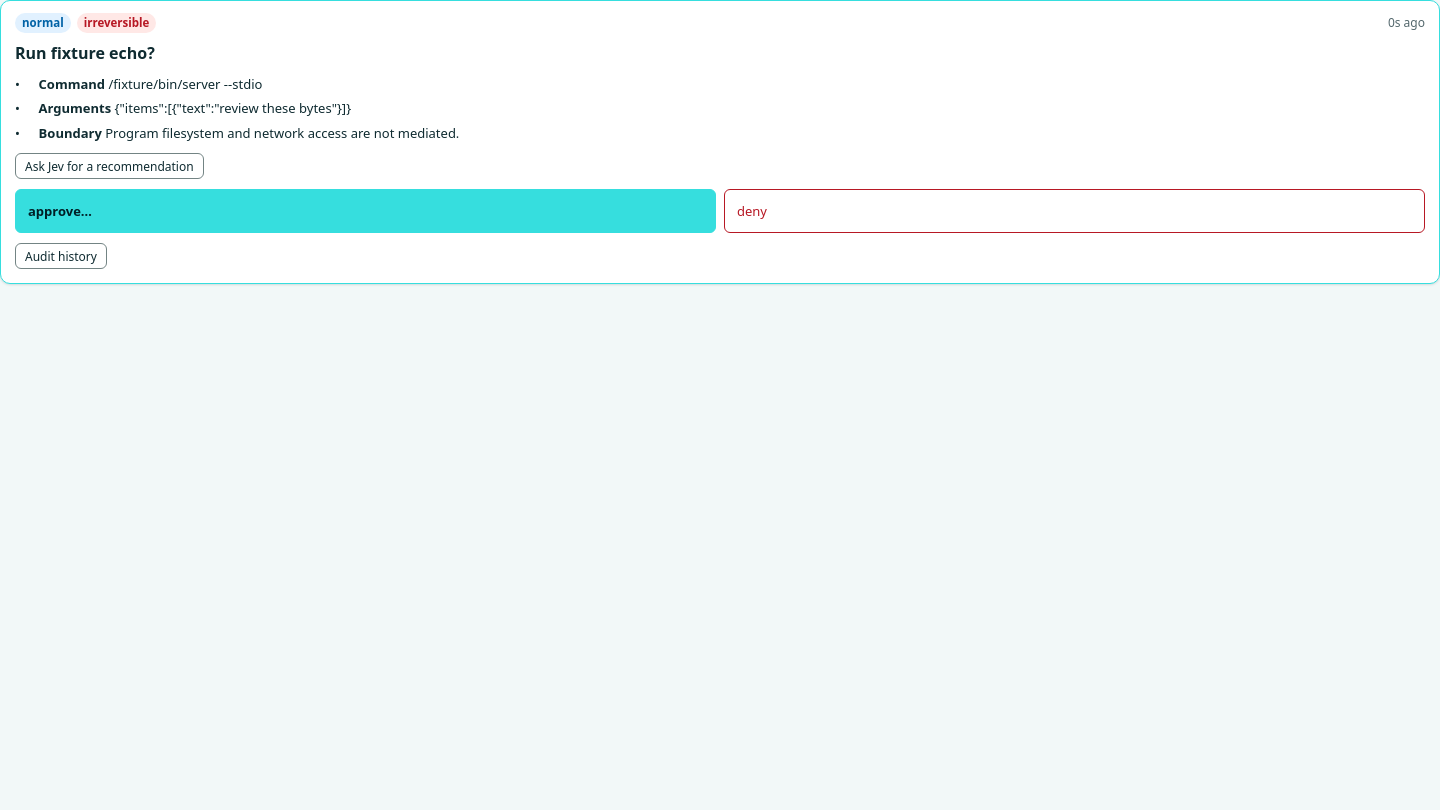
Scenario: exact plugin Decision confirmation › reports uncertain without implying completion or retrying
The image size is (1440, 810).
Click the button "approve…".
click(54, 211)  # box [15, 189, 716, 233]
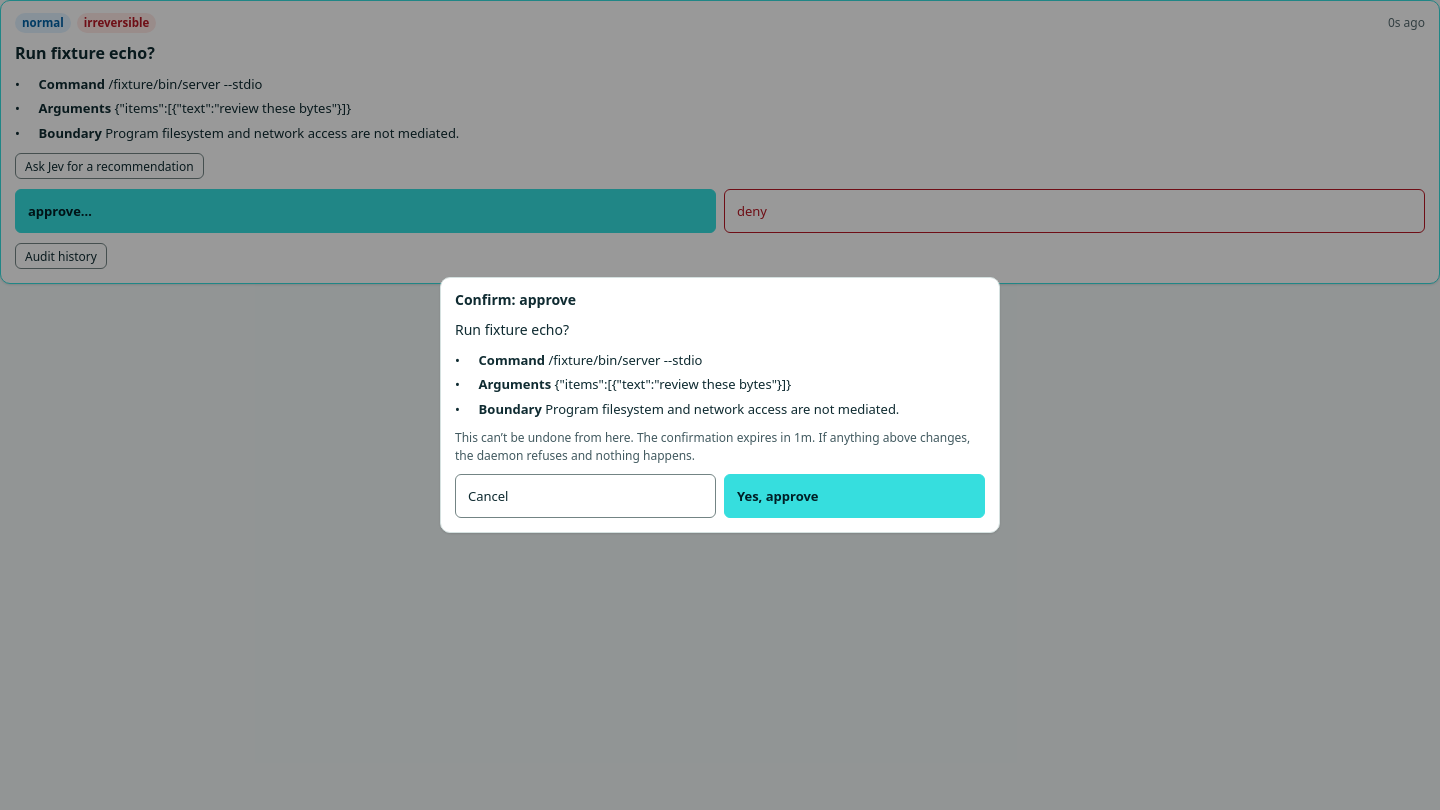
Click the button "Yes, approve".
click(792, 496)  # box [724, 474, 985, 518]
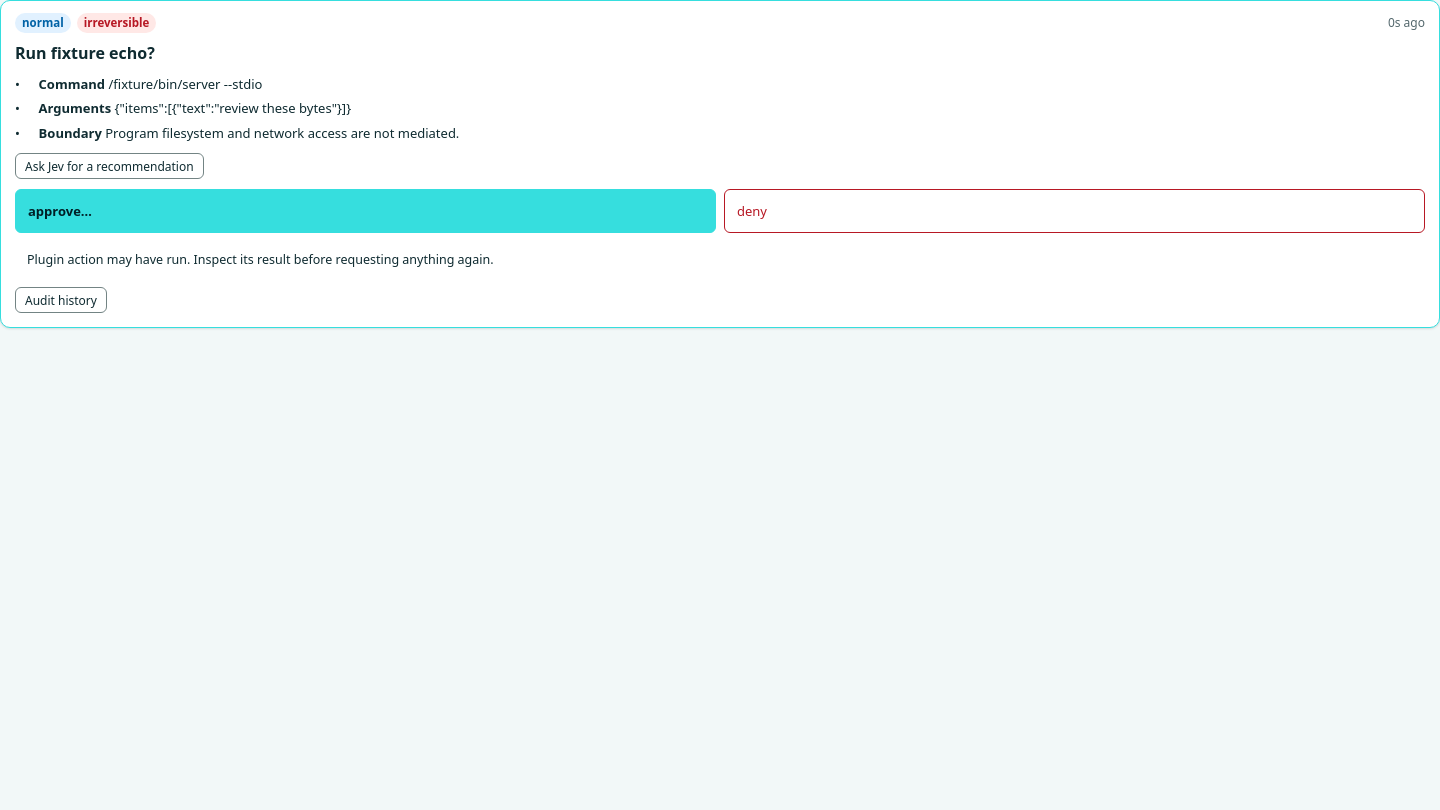
Now the text "Plugin action may have run. Inspect its result before requesting anything again." is shown, box [27, 251, 494, 268]
